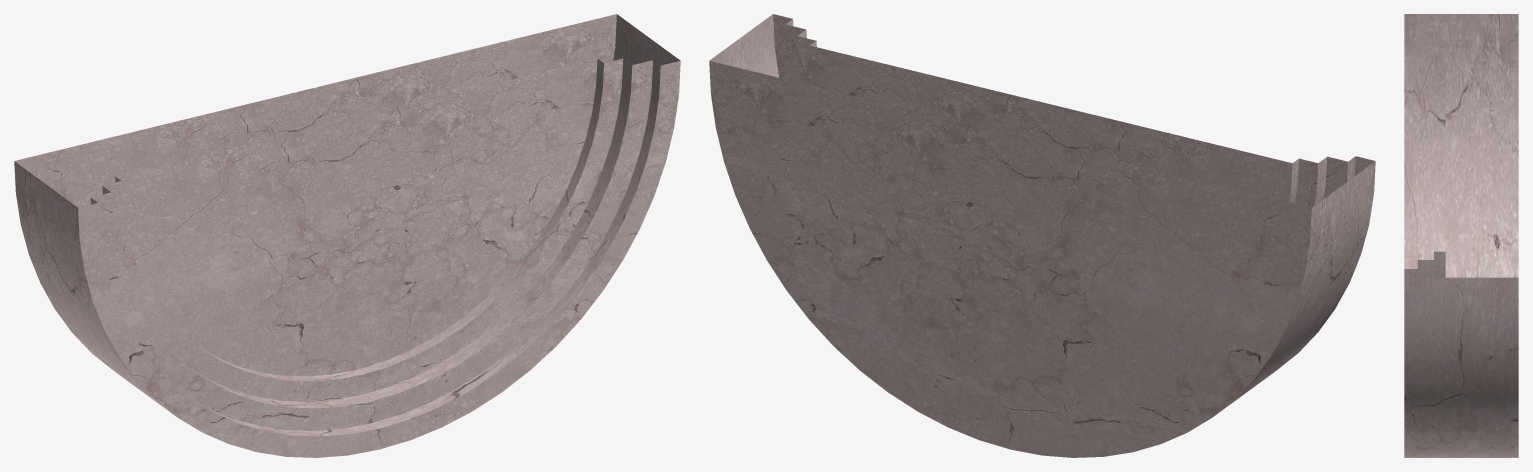
The model's file is pasted__marble_tiles_pink_60.fbx.
3 views of the same model, side by side, from view 1: azimuth 30°, elevation 25°; view 2: azimuth 150°, elevation 25°; view 3: azimuth 270°, elevation 25° (orthographic). The views are drawn at different scales.
Visible parts, largest first — view 1: pasted__Node_1438; view 2: pasted__Node_1438; view 3: pasted__Node_1438.
Part boxes in pixels (x1=…): pasted__Node_1438: x1=14, y1=14, x2=680, y2=457; pasted__Node_1438: x1=709, y1=14, x2=1375, y2=457; pasted__Node_1438: x1=1404, y1=14, x2=1518, y2=457.
Bounding box in the file's own units: 60.8 × 11.16 × 30.4.
